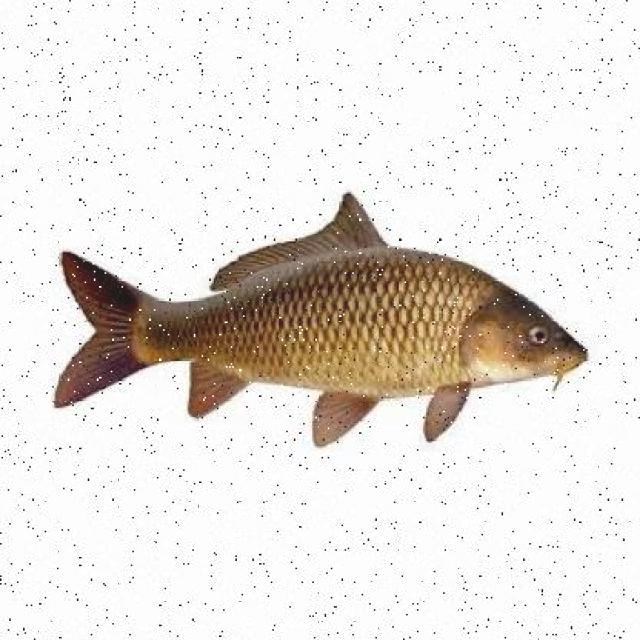ikan-mas: (56, 200, 587, 412)
